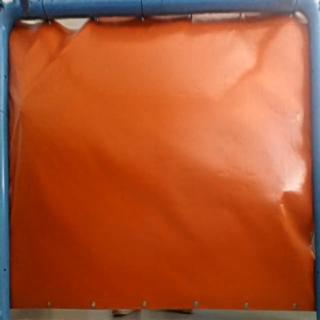Hit-hRxx: (13, 99, 29, 118)
